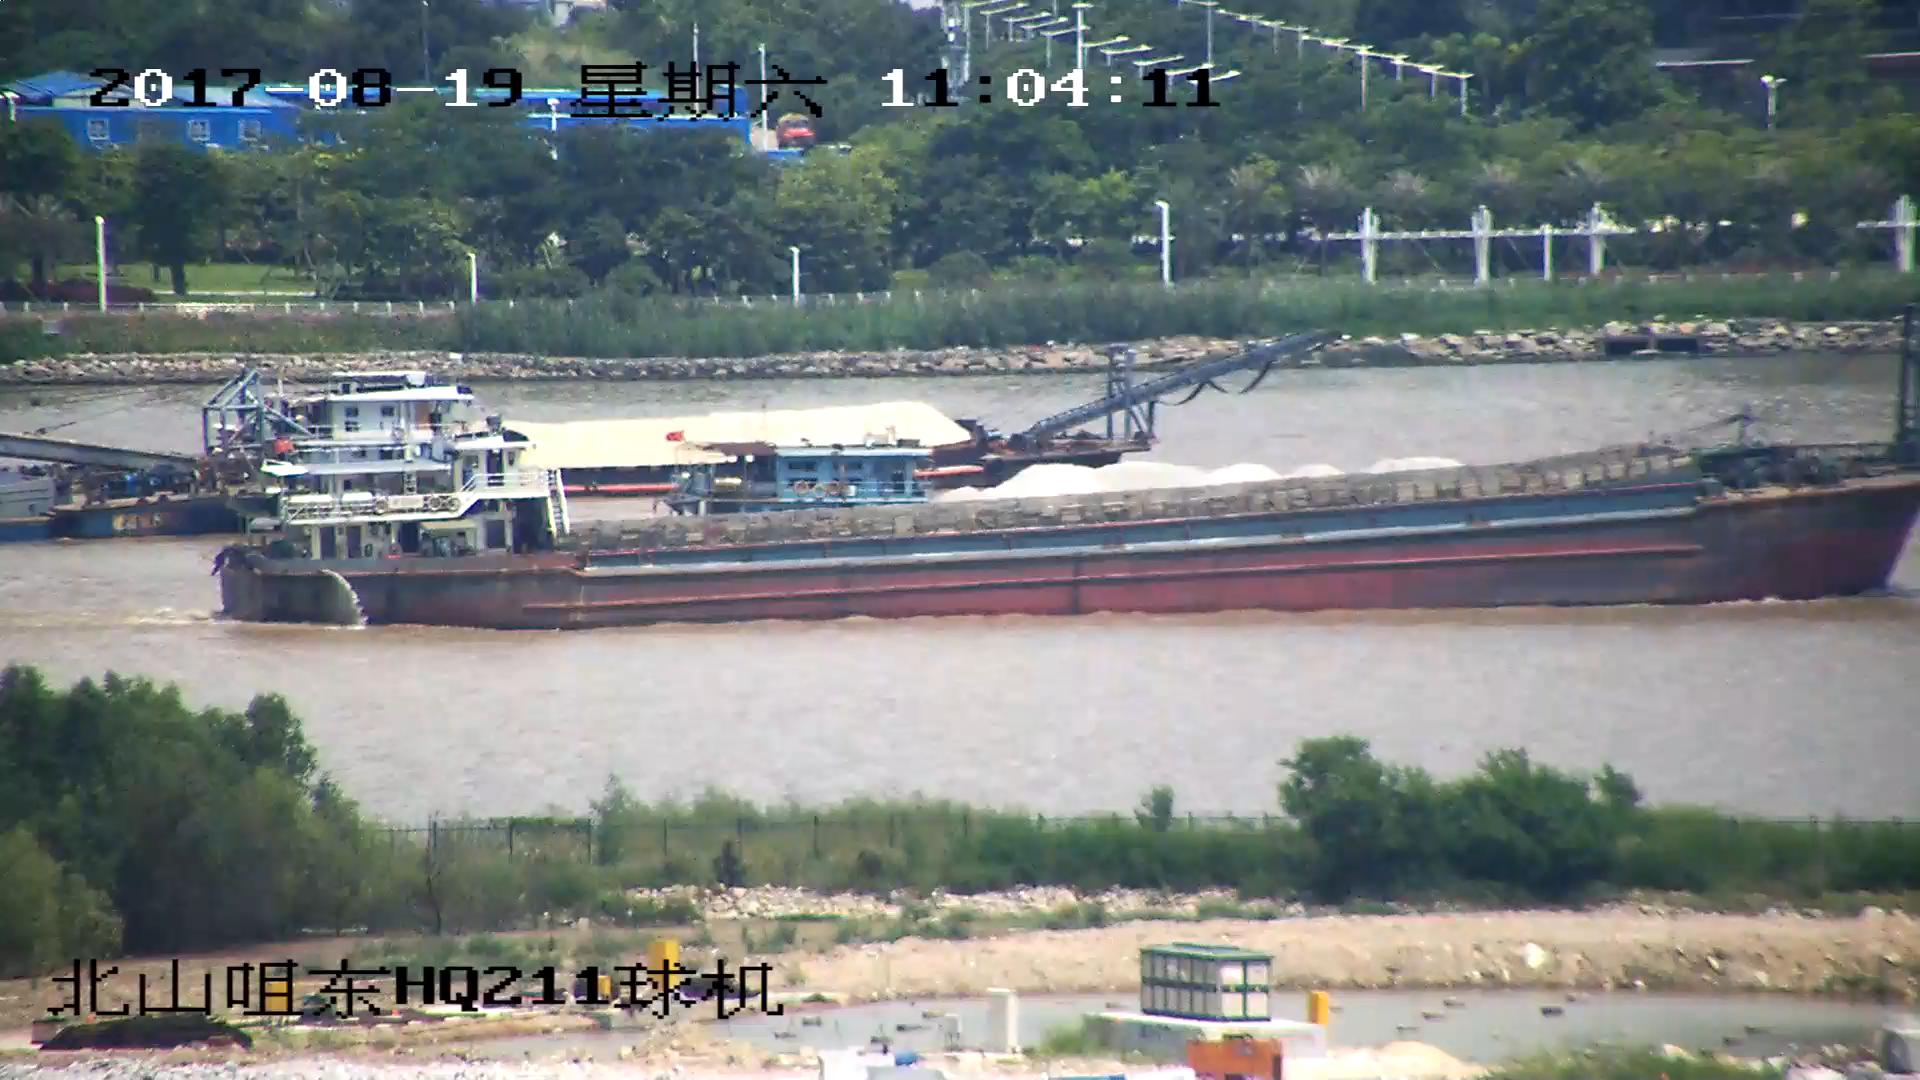bulk cargo carrier: (215, 443, 1920, 628)
ore carrier: (1, 331, 1334, 542)
